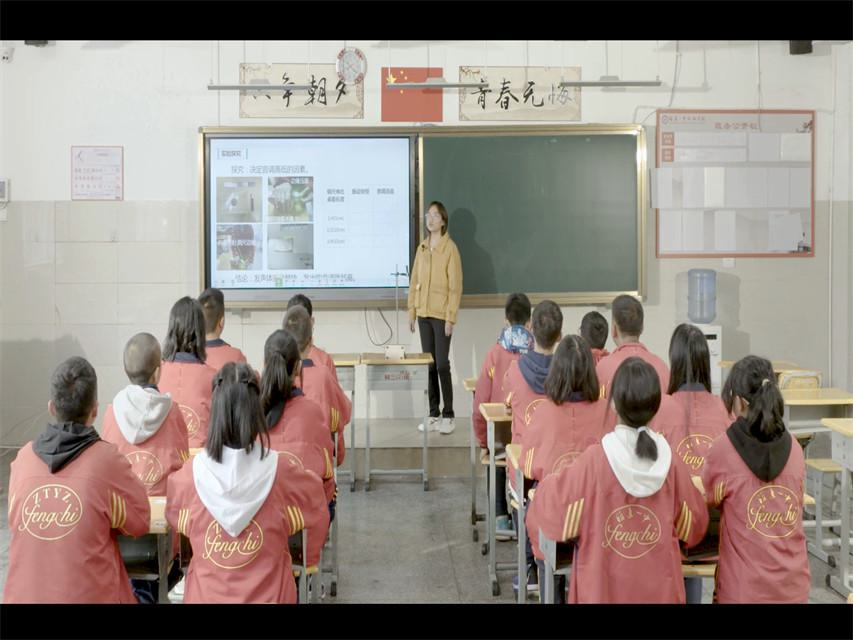listen: (19, 346, 116, 563), (713, 346, 804, 536), (190, 356, 270, 558), (586, 353, 668, 538), (105, 322, 177, 500), (261, 325, 318, 467), (665, 315, 718, 443), (152, 293, 209, 391), (599, 295, 657, 377), (518, 297, 565, 397), (550, 332, 596, 433), (488, 288, 533, 375)
